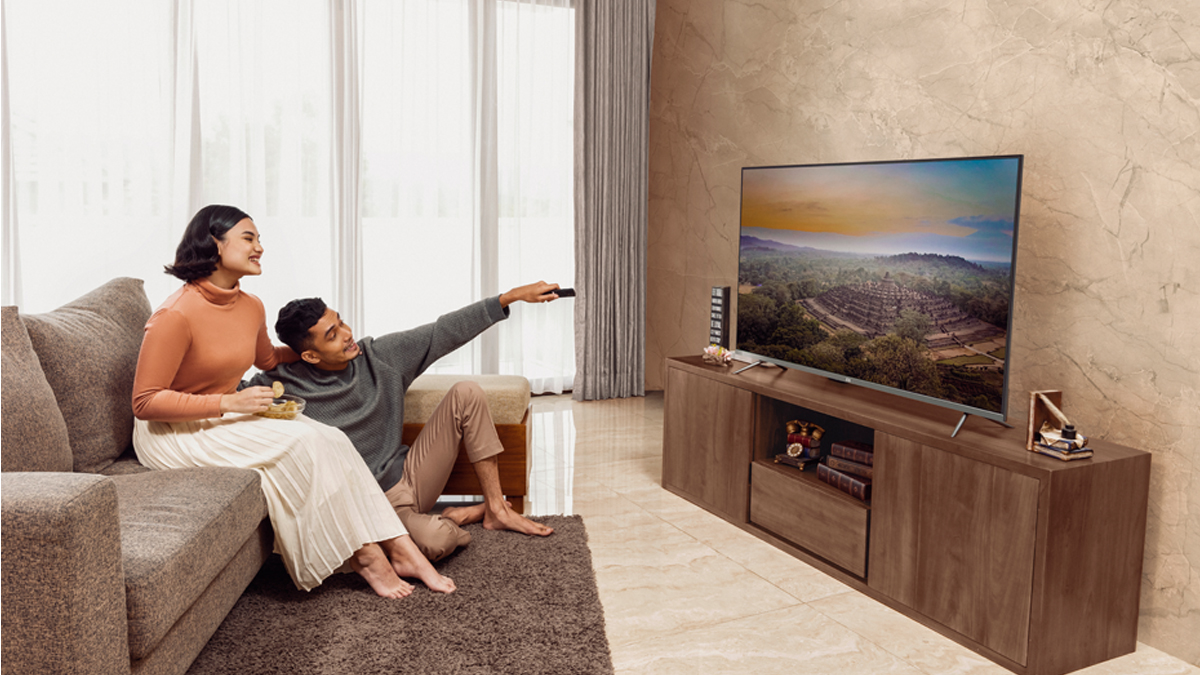meja: (645, 344, 1160, 659)
